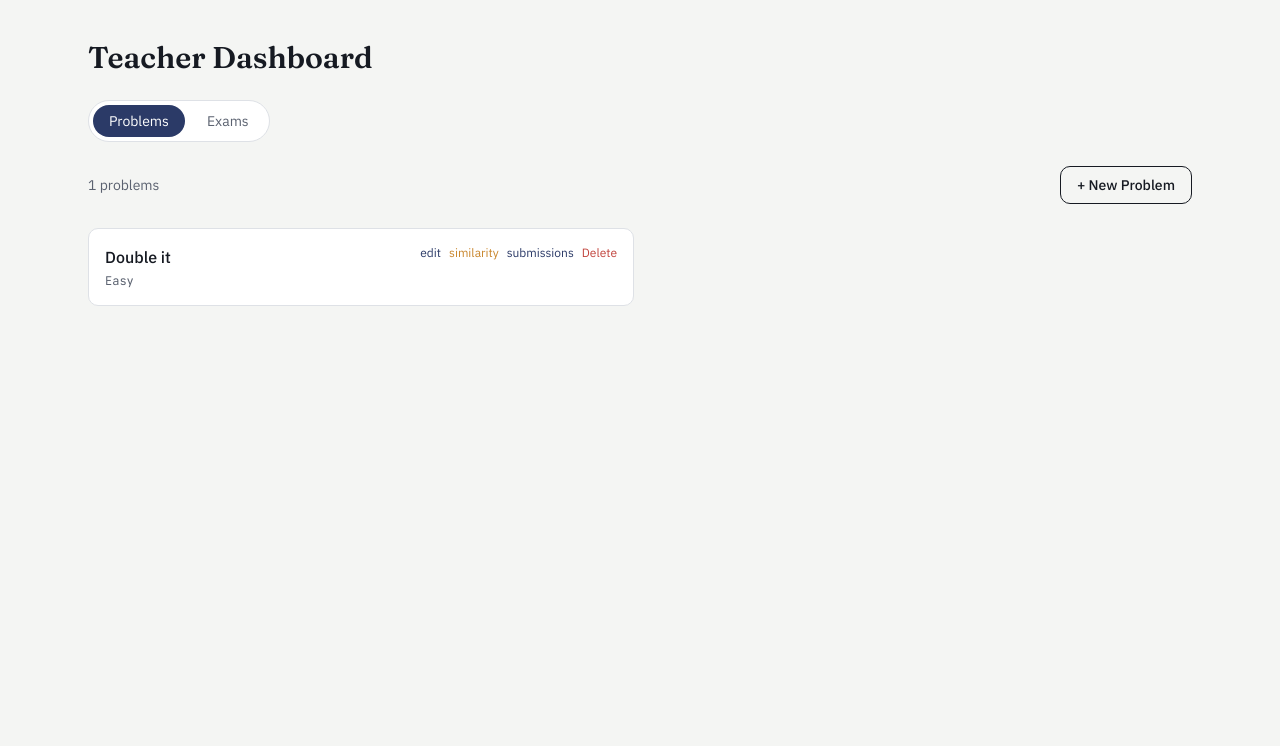
Test case: editing a problem › cannot move a problem to another course
Click the button with aria-label "edit problem double it": (431, 253) [420, 245, 441, 261]
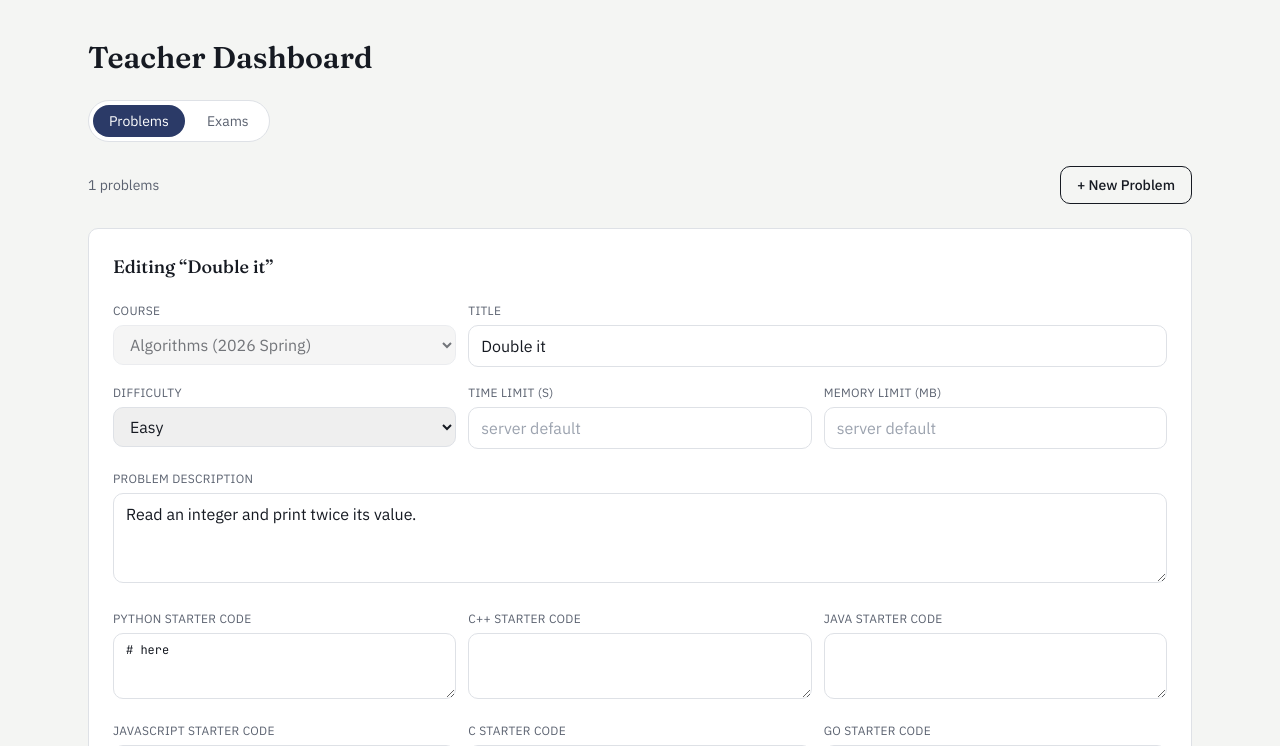
Result: the field labelled "Title" is shown at [468, 325, 1167, 367]
Result: the dropdown labelled "Course" is disabled at [113, 325, 456, 365]
